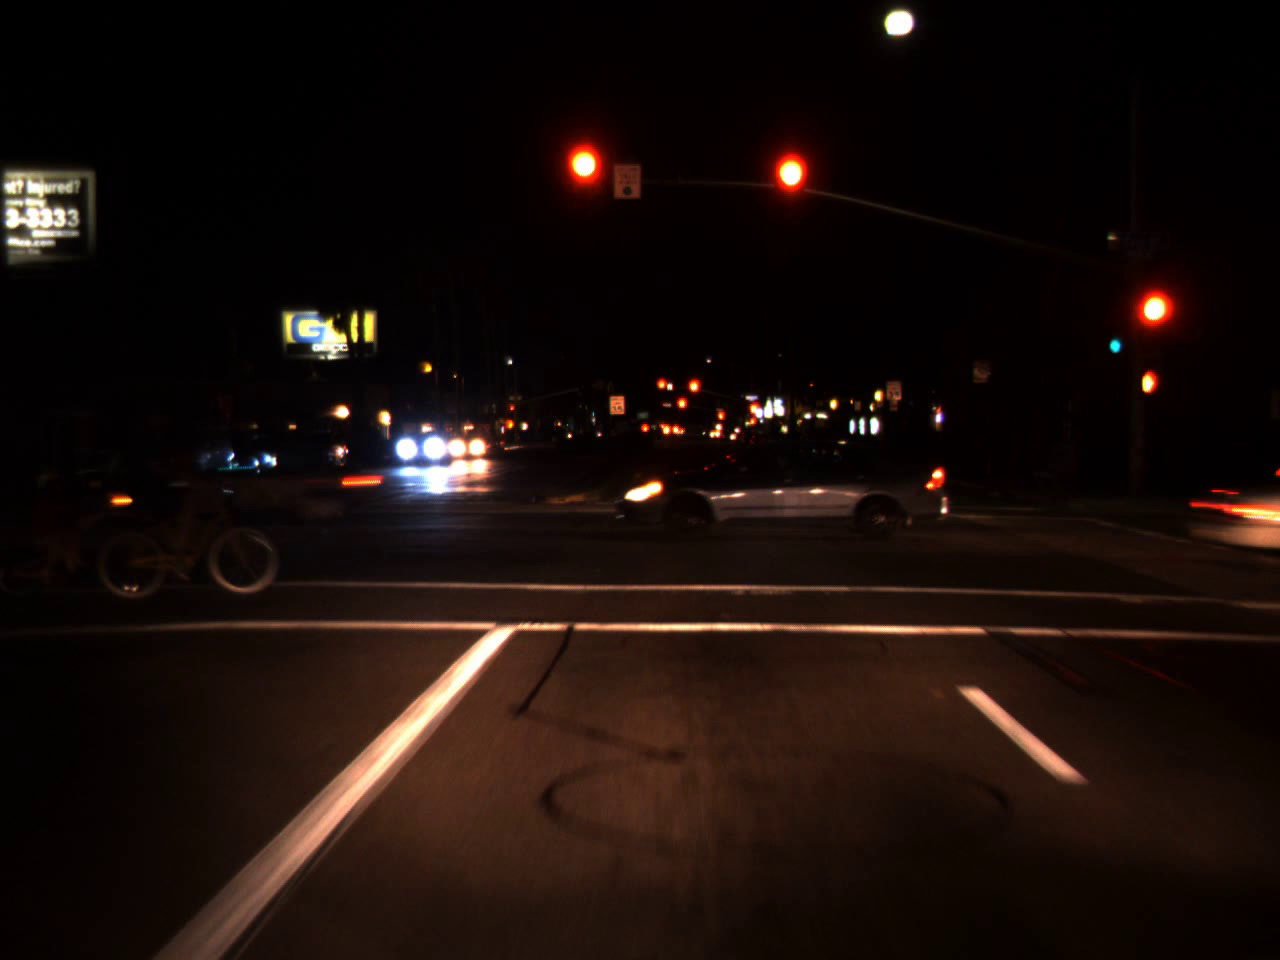stop: (1133, 290, 1175, 357), (772, 155, 808, 225), (567, 147, 601, 219), (686, 377, 701, 409), (744, 400, 759, 427), (675, 395, 688, 422), (656, 376, 668, 400), (504, 402, 516, 423), (716, 410, 725, 431)
